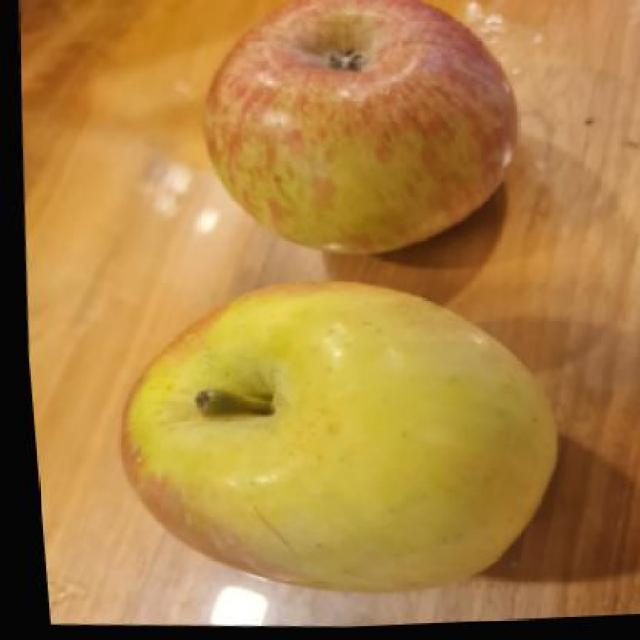Fresh Apple: (125, 281, 557, 598), (188, 4, 520, 258)
